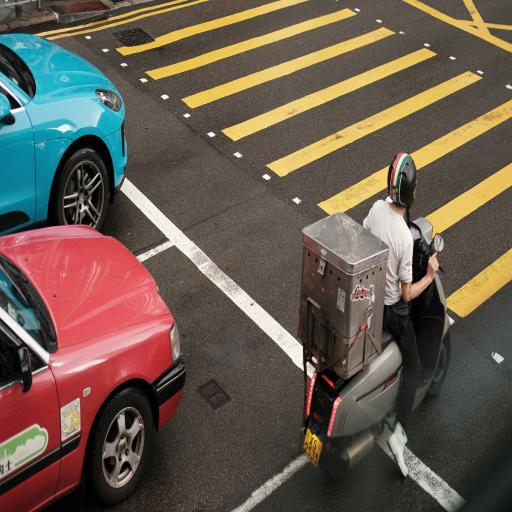bike: (293, 212, 459, 504)
box: (297, 213, 388, 379)
car: (0, 227, 185, 510), (0, 34, 127, 234)
person: (368, 146, 438, 470)
zebra crossing: (90, 0, 511, 364)
